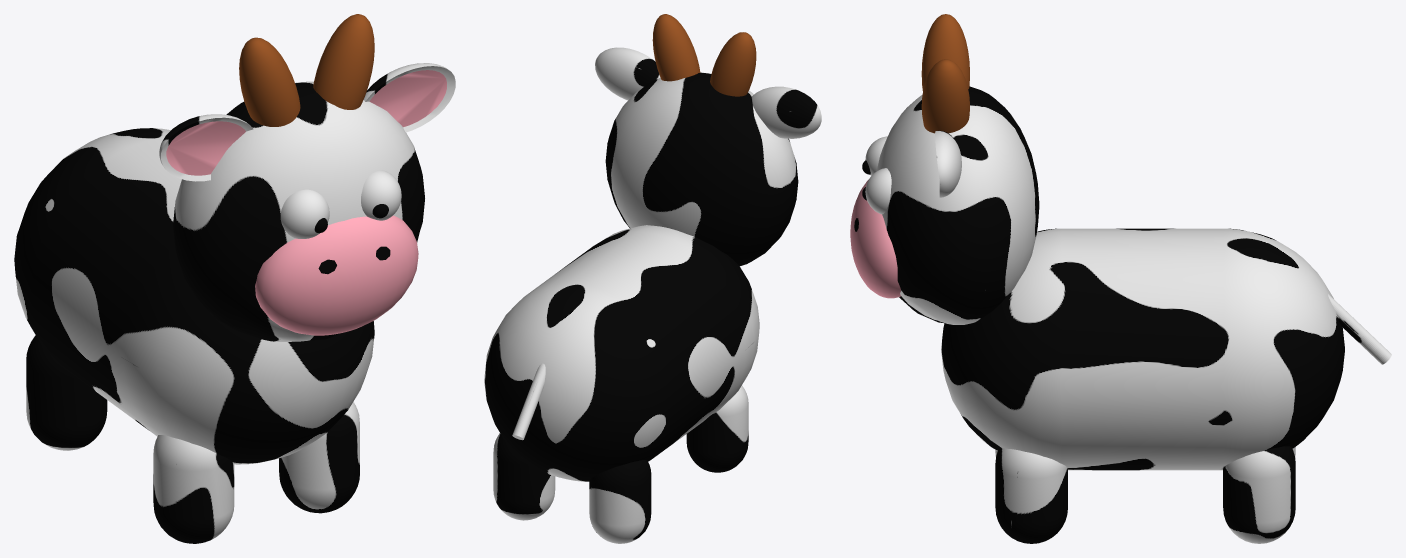
The model's file is Cow.fbx.
3 views of the same model, side by side, from view 1: azimuth 30°, elevation 25°; view 2: azimuth 150°, elevation 25°; view 3: azimuth 270°, elevation 25° (orthographic). The views are drawn at different scales.
Visible parts, largest first — view 1: Body, Mouth, Horns, Eyes; view 2: Body, Horns; view 3: Body, Horns, Mouth, Eyes.
Boxes of the visible parts, x1,y1,x2,y2 form: Body: [14, 63, 455, 543]; Mouth: [255, 215, 418, 335]; Horns: [239, 14, 374, 126]; Eyes: [280, 170, 401, 238]; Body: [484, 47, 821, 543]; Horns: [652, 14, 756, 96]; Body: [876, 86, 1391, 543]; Horns: [921, 14, 969, 133]; Mouth: [850, 179, 900, 298]; Eyes: [865, 136, 891, 214].
Size of the model in its own units: 252 by 435 by 448.
